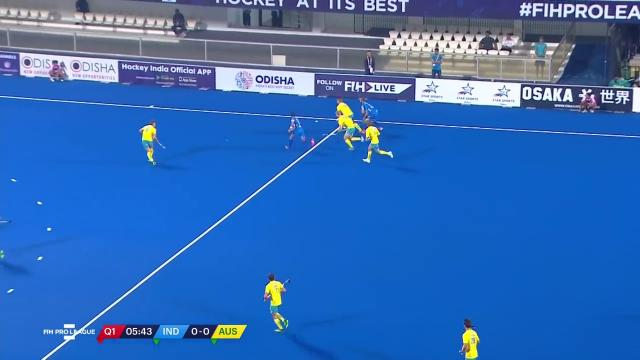ball: (314, 120, 319, 123)
